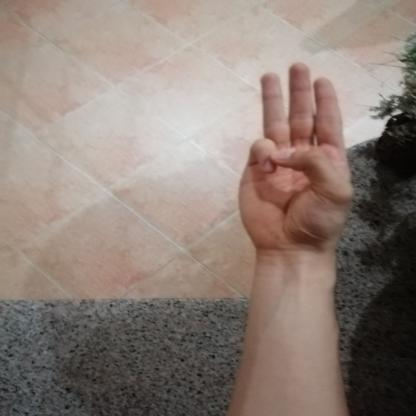THA: (221, 50, 362, 255)
